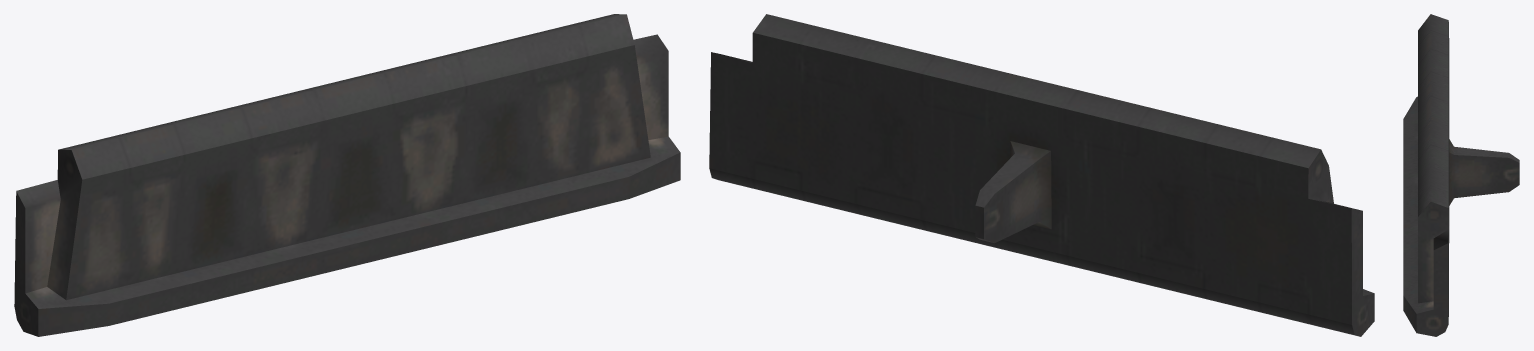
3 views of the same model, side by side, from view 1: azimuth 30°, elevation 25°; view 2: azimuth 150°, elevation 25°; view 3: azimuth 270°, elevation 25° (orthographic). The views are drawn at different scales.
Visible parts, largest first — view 1: set_0_group_0; view 2: set_0_group_0; view 3: set_0_group_0.
Part boxes in pixels (left/top/right/bottom): set_0_group_0: left=14, top=14, right=680, bottom=336; set_0_group_0: left=709, top=14, right=1374, bottom=336; set_0_group_0: left=1403, top=14, right=1519, bottom=336.
Size of the model in its own units: 0.7407 by 0.1915 by 0.168.
Materials: 1 (1 with a texture image).
